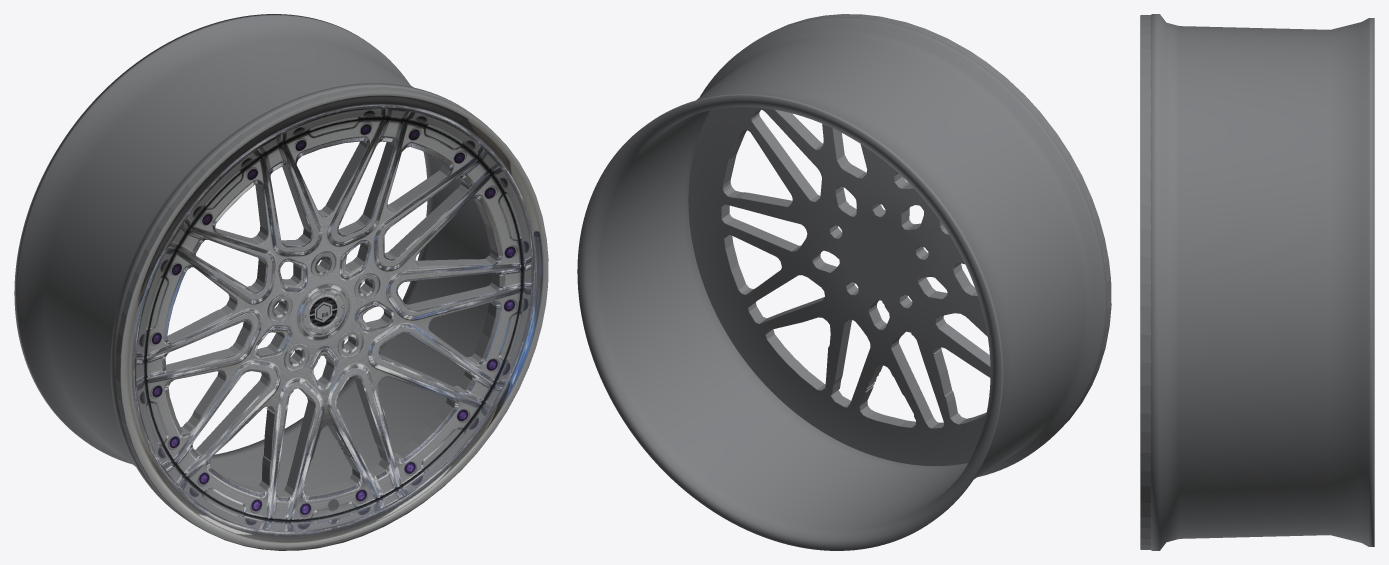
The model's file is e6-multipiece-sf15.glb.
3 renders of one model, left to right at view 1: azimuth 30°, elevation 25°; view 2: azimuth 150°, elevation 25°; view 3: azimuth 270°, elevation 25°, orthographic. The views are drawn at different scales.
Parts seen in each view (by area): view 1: Photo_traced_face_0, Approximate_rear_barrel; view 2: Approximate_rear_barrel, Photo_traced_face_0; view 3: Approximate_rear_barrel, Photo_traced_face_0.
Boxes of the visible parts, x1=… form: Photo_traced_face_0: x1=115, y1=87, x2=548, y2=550; Approximate_rear_barrel: x1=14, y1=14, x2=492, y2=529; Approximate_rear_barrel: x1=577, y1=17, x2=1107, y2=550; Photo_traced_face_0: x1=688, y1=14, x2=1111, y2=465; Approximate_rear_barrel: x1=1150, y1=14, x2=1374, y2=550; Photo_traced_face_0: x1=1140, y1=15, x2=1150, y2=549.
Size of the model in its own units: 2.06 by 2.06 by 0.9.
2 materials, 1 textured.
